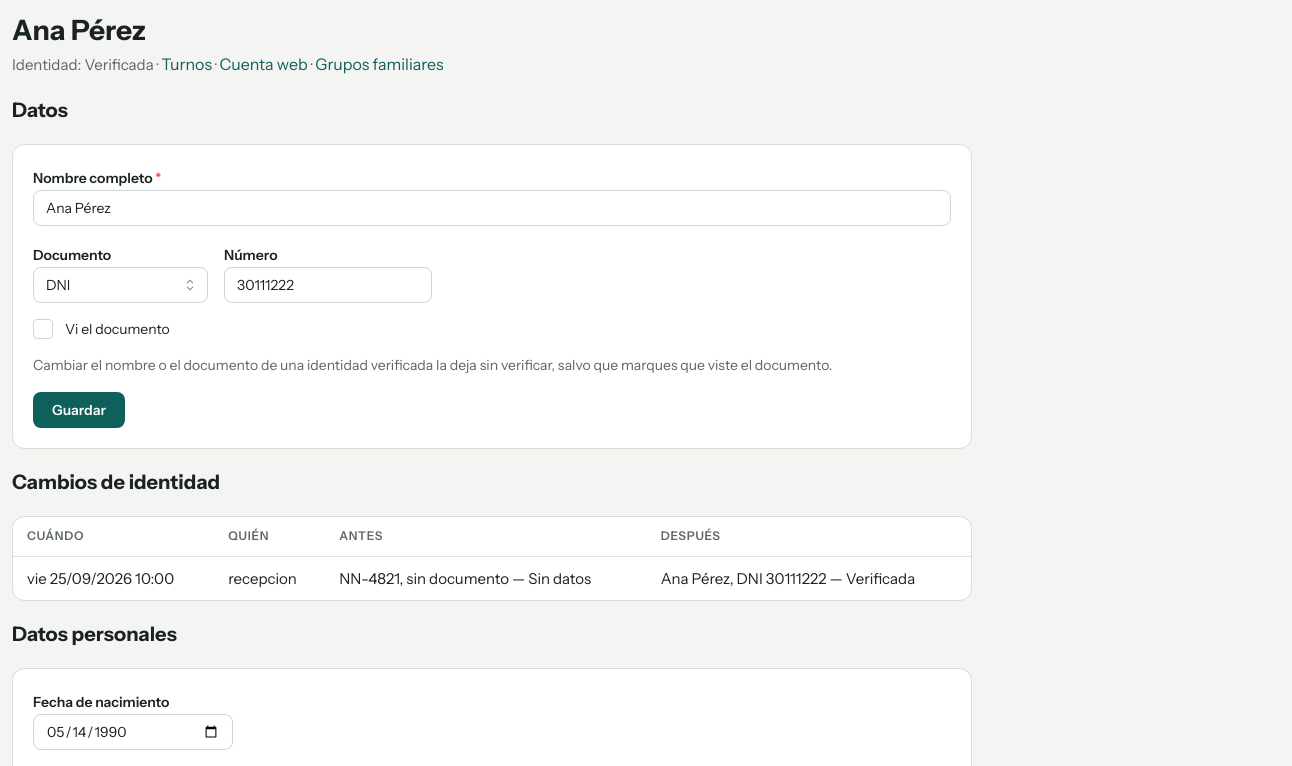
Test: a patient's screen › says a refusal of the identity in Spanish
Click the button "Guardar".
click(79, 410)  # box [33,392,125,428]
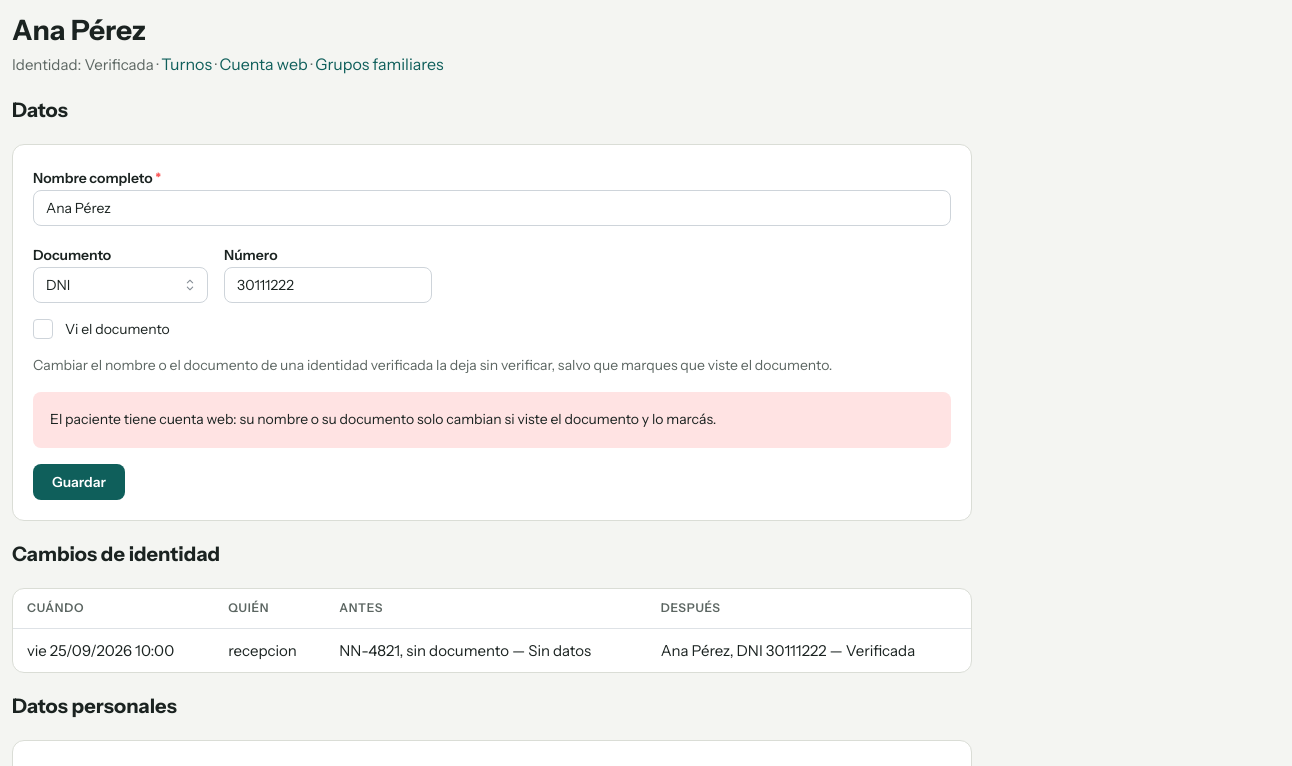
Expected: the message shows "El paciente tiene cuenta web", [50,410,716,428]
